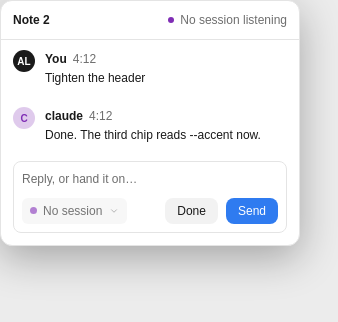
Scenario: Thread › asks for a reply when Send has nothing to send
This screenshot has width=338, height=322.
Step 1. Click the button "Send" → (252, 211), box [226, 198, 278, 224]
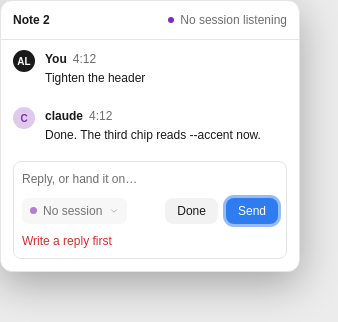
Expected: the message reads "Write a reply first", [22, 234, 112, 248]
